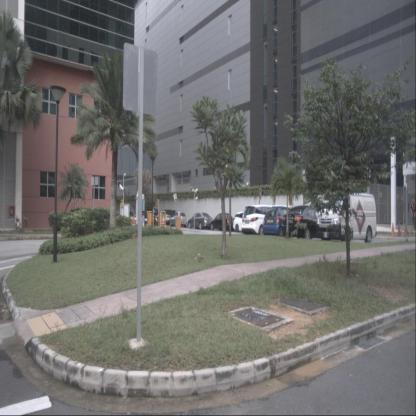cone: (390, 222, 396, 238), (397, 222, 402, 238), (404, 222, 408, 238)
